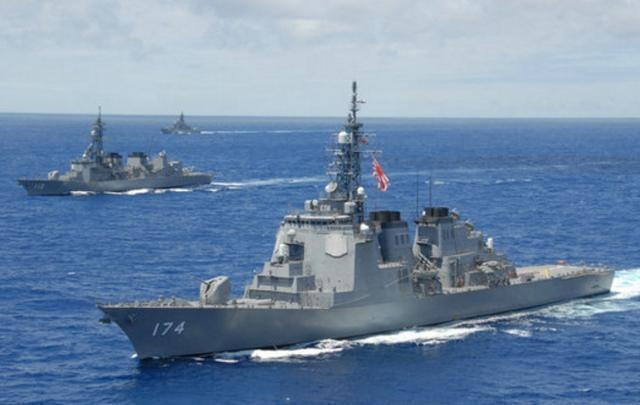warship: (91, 84, 617, 360), (18, 102, 214, 197), (156, 109, 205, 135)
